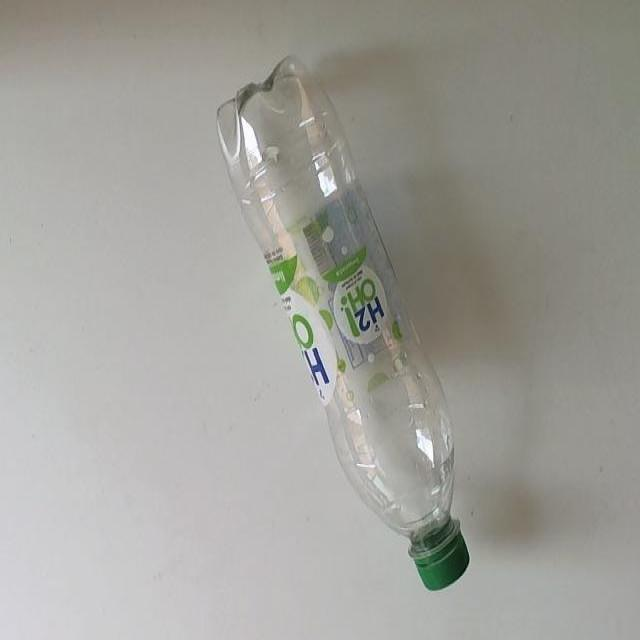non-defect: (212, 52, 471, 594)
